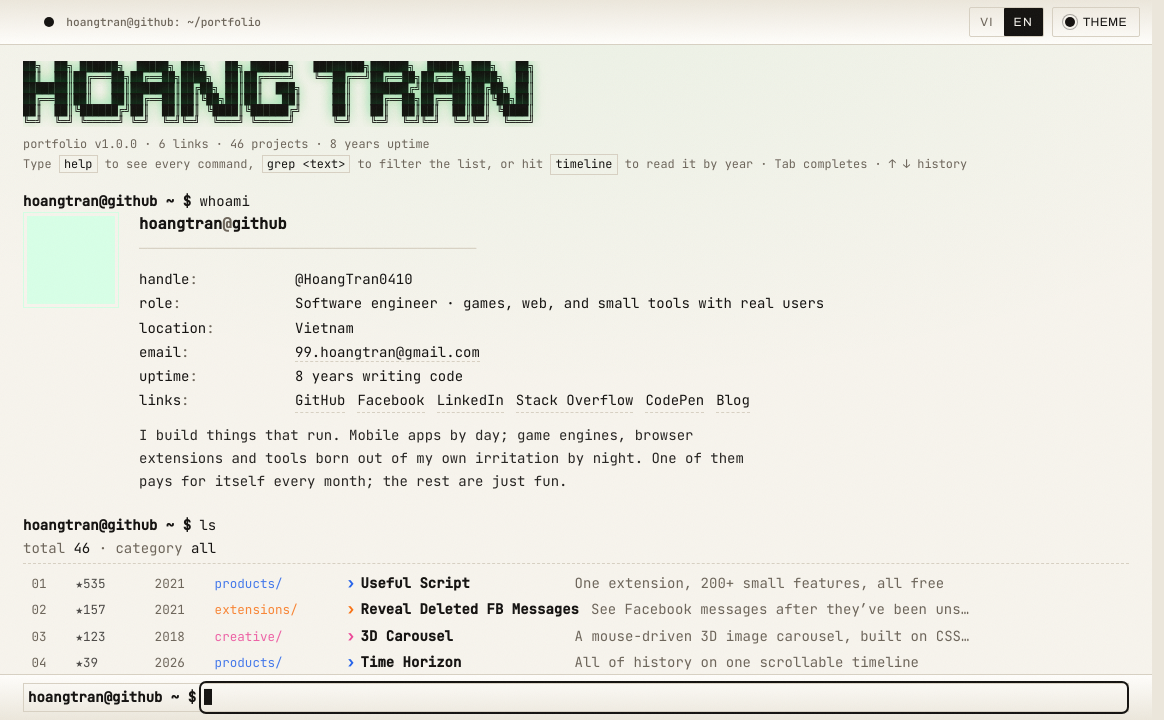
Scenario: Terminal › `ls <nhóm sai>` báo lỗi kèm danh sách nhóm hợp lệ
The width and height of the screenshot is (1164, 720).
Type "ls khongcogi" into the field named "Command line" at (664, 697), box [204, 686, 1124, 709]
Then press Enter
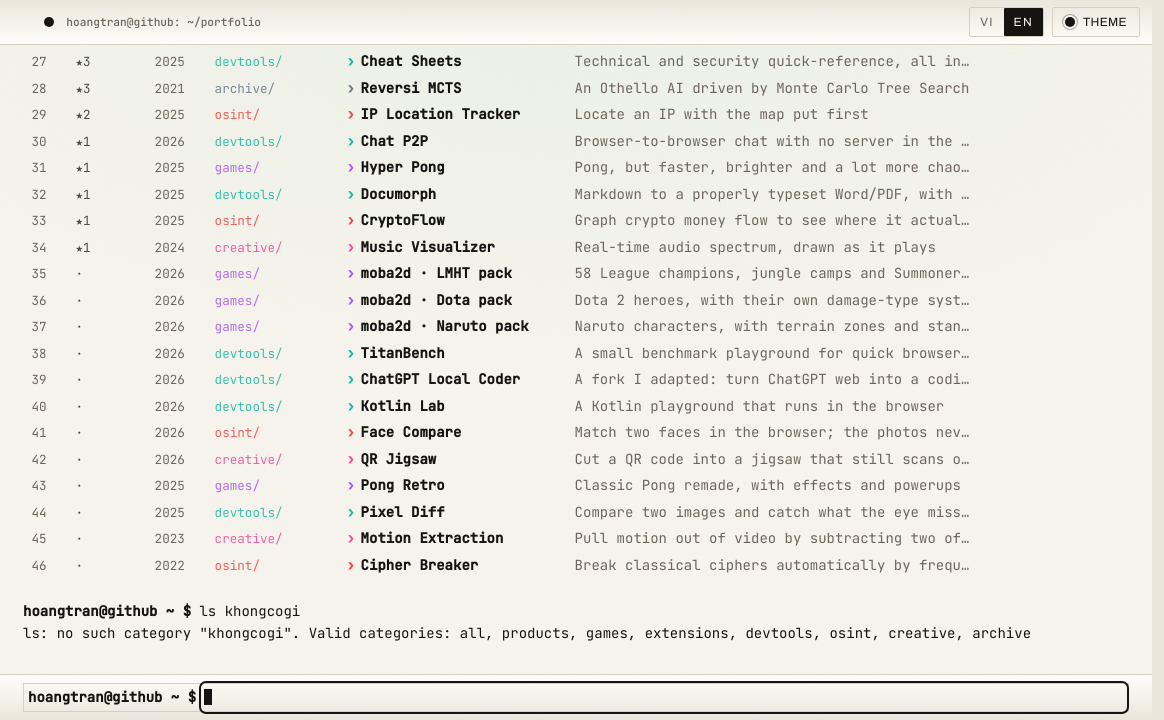
Check: the element that starts with "hoangtran@github ~ $" shows "games", box [23, 624, 1031, 642]
Check: the element that starts with "hoangtran@github ~ $" shows "osint", box [23, 624, 1031, 642]
